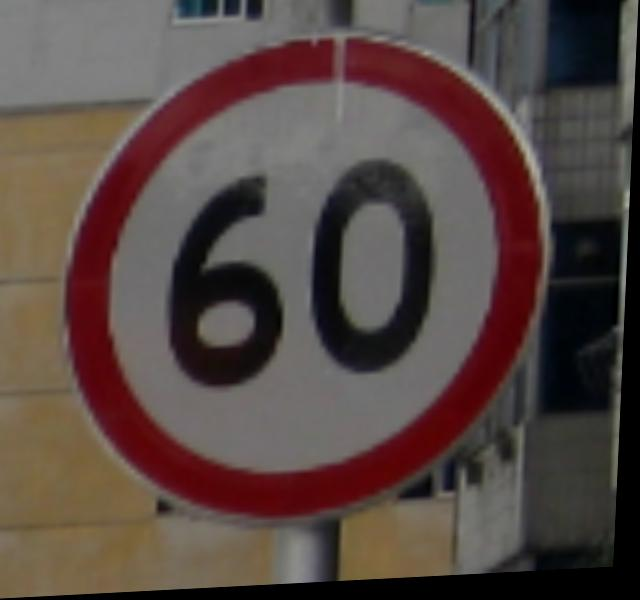limit60: (35, 16, 570, 551)
